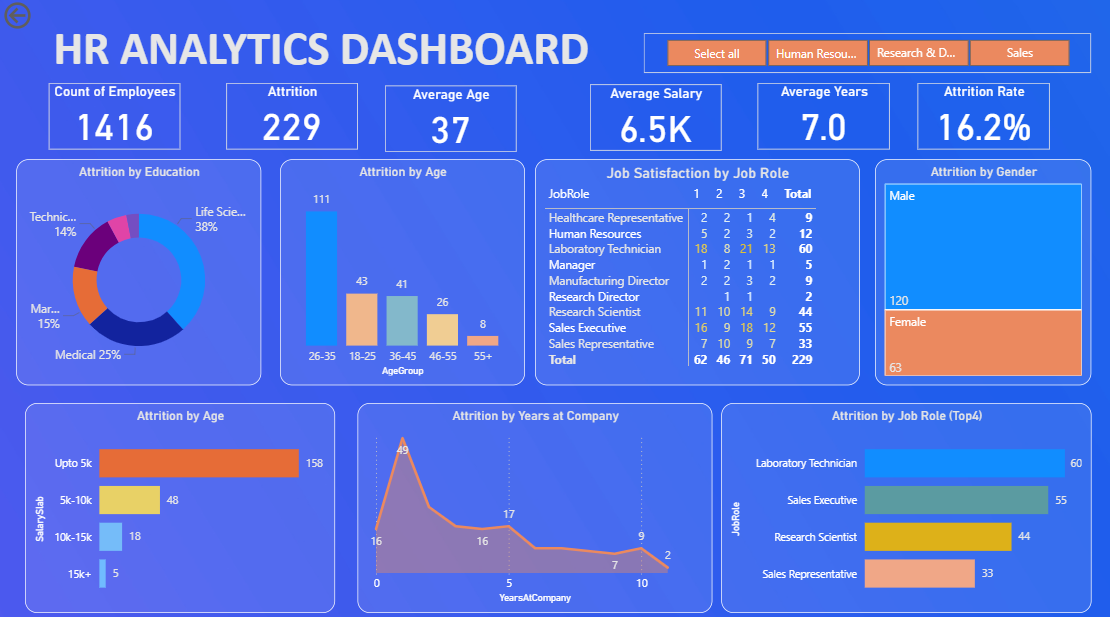

What the dashboard file says about the page in this screenshot:
{"tool":"powerbi","page":{"name":"Page 1","canvas":[1280,720],"ordinal":0},"visuals":[{"type":"card","title":"Count of Employees","fields":{"Values":["CountNonNull(HR_Analytics.EmpID)"]},"box":[55.7,97.1,150,75.7],"z":0},{"type":"actionButton","box":[0,0,100,40],"z":1000},{"type":"card","title":"Attrition","fields":{"Values":["CountNonNull(HR_Analytics.AttritionCount)"]},"box":[258.6,97.1,150,75.7],"z":2000},{"type":"card","title":"Average Age","fields":{"Values":["Avg(HR_Analytics.Age)"]},"box":[440,100,150,75.7],"z":3000},{"type":"card","title":"Average Salary","fields":{"Values":["Avg(HR_Analytics.MonthlyIncome)"]},"box":[674.3,98.6,150,75.7],"z":4000},{"type":"card","title":"Average Years","fields":{"Values":["Avg(HR_Analytics.YearsAtCompany)"]},"box":[865.7,97.1,151.4,75.7],"z":5000},{"type":"card","title":"Attrition Rate","fields":{"Values":["HR_Analytics.AttritionRate"]},"box":[1048.6,97.1,151.4,75.7],"z":6000},{"type":"donutChart","title":"Attrition by Education","fields":{"Category":["HR_Analytics.EducationField"],"Y":["Sum(HR_Analytics.AttritionCount)"]},"box":[18.6,184.3,280,258.6],"z":7000},{"type":"columnChart","title":"Attrition by Age","fields":{"Category":["HR_Analytics.AgeGroup"],"Y":["Sum(HR_Analytics.AttritionCount)"]},"box":[320,184.3,280,258.6],"z":8000},{"type":"pivotTable","title":"Job Satisfaction by Job Role","fields":{"Columns":["HR_Analytics.JobSatisfaction"],"Values":["Sum(HR_Analytics.AttritionCount)"],"Rows":["HR_Analytics.JobRole"]},"box":[611.4,184.3,371.4,258.6],"z":9000},{"type":"barChart","title":"Attrition by Age","fields":{"Category":["HR_Analytics.SalarySlab"],"Y":["Sum(HR_Analytics.AttritionCount)"]},"box":[28.6,462.9,354.3,240],"z":10000},{"type":"barChart","title":"Attrition by Job Role (Top4)","fields":{"Category":["HR_Analytics.JobRole"],"Y":["Sum(HR_Analytics.AttritionCount)"]},"box":[824.3,462.9,422.9,240],"z":11000},{"type":"areaChart","title":"Attrition by Years at Company","fields":{"Category":["HR_Analytics.YearsAtCompany"],"Y":["Sum(HR_Analytics.AttritionCount)"]},"box":[408.6,462.9,405.7,240],"z":12000},{"type":"treemap","title":"Attrition by Gender","fields":{"Group":["HR_Analytics.Gender"],"Values":["Sum(HR_Analytics.AttritionCount)"]},"box":[1000,184.3,247.1,258.6],"z":13000},{"type":"slicer","fields":{"Values":["HR_Analytics.Department"]},"box":[735.7,40,511.4,45.7],"z":14000},{"type":"textbox","box":[28.6,20,677.1,77.1],"z":15000}]}

Visuals, with their boxes in screenshot pixels (x1, y1, x2, y2), scaled from the page's 1280x720 canvas onto the 1110x617 screenshot:
"Count of Employees" card: [48,83,178,148]
actionButton: [0,0,87,34]
"Attrition" card: [224,83,354,148]
"Average Age" card: [382,86,512,151]
"Average Salary" card: [585,84,715,149]
"Average Years" card: [751,83,882,148]
"Attrition Rate" card: [909,83,1041,148]
"Attrition by Education" donutChart: [16,158,259,380]
"Attrition by Age" columnChart: [278,158,520,380]
"Job Satisfaction by Job Role" pivotTable: [530,158,852,380]
"Attrition by Age" barChart: [25,397,332,602]
"Attrition by Job Role (Top4)" barChart: [715,397,1082,602]
"Attrition by Years at Company" areaChart: [354,397,706,602]
"Attrition by Gender" treemap: [867,158,1081,380]
slicer - HR_Analytics.Department: [638,34,1081,73]
textbox: [25,17,612,83]
